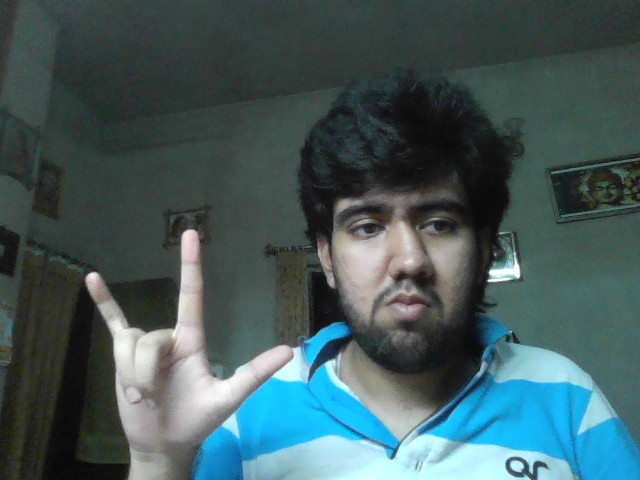ILoveYou: (85, 229, 294, 452)
